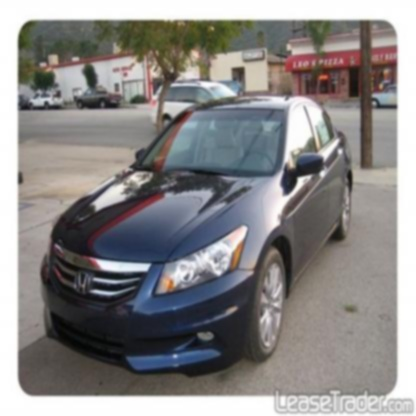Vehicle: (42, 92, 356, 373)
